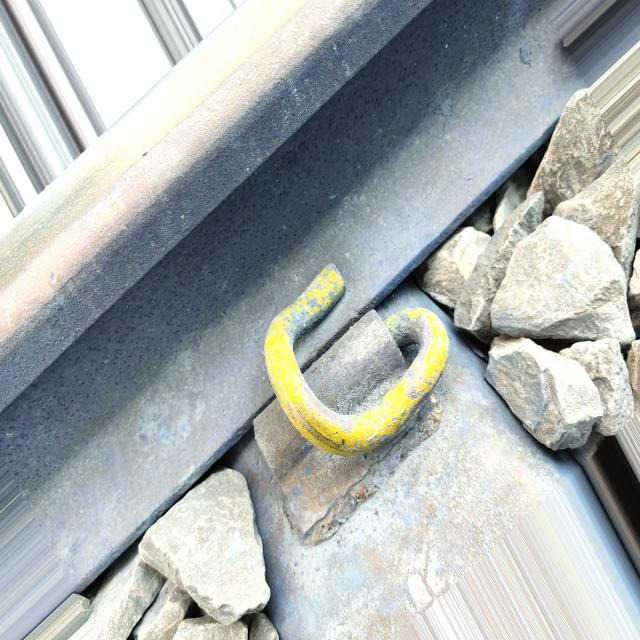Good Fasteners: (244, 241, 461, 577)
